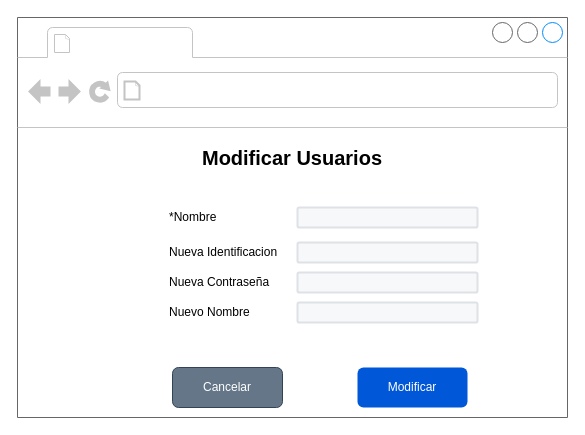
The diagram is 585 pixels wide and 435 high, and some of its shapes have lost their labels. Each missing label, with the centre of its shape:
https://www.draw.io: point 272,90
Page 1: point 132,42
